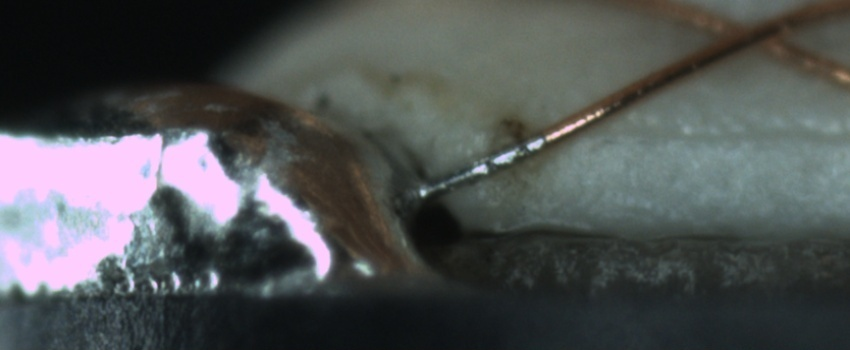CL: (697, 4, 823, 60)
DL: (582, 103, 849, 167)
TS: (420, 133, 546, 199)
